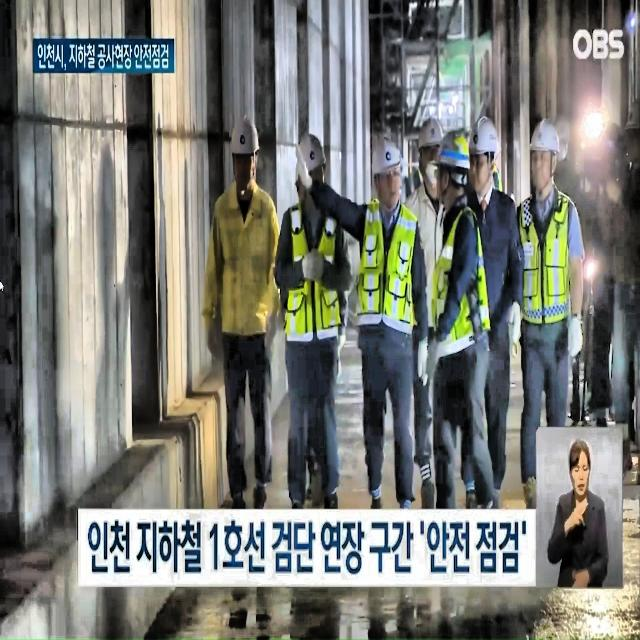safety_helmet: (290, 129, 328, 177), (371, 131, 406, 178), (468, 113, 502, 159), (432, 135, 474, 171), (414, 114, 448, 156), (529, 112, 561, 156), (230, 117, 260, 160)
safety_jacket: (431, 206, 492, 357), (357, 197, 421, 339), (284, 204, 345, 348), (516, 184, 576, 327)
